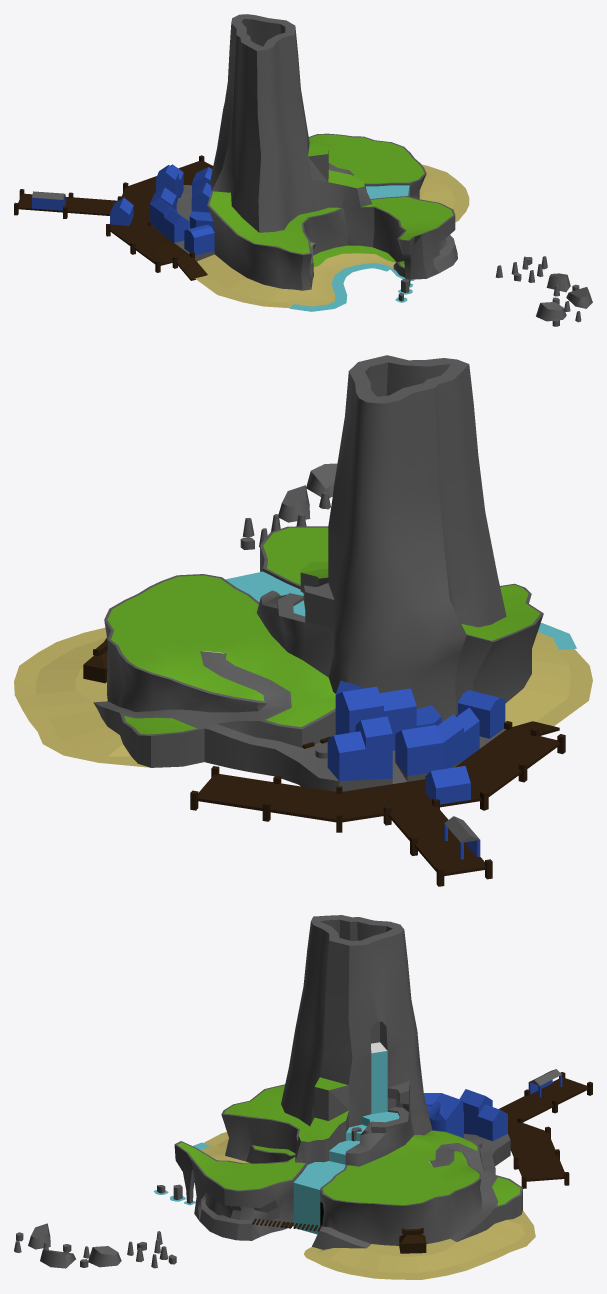
File: SM_BeachScene (6).fbx
The picture shows the model from 3 angles, top to bottom: view 1: azimuth 30°, elevation 25°; view 2: azimuth 150°, elevation 25°; view 3: azimuth 270°, elevation 25°; orthographic projection. The views are drawn at different scales.
Parts seen in each view (by area): view 1: Cliffs, Sand, Box006, Box045, Box041, Box051, Box035, Waves2, Object001, Plane002, Waves1, Box044 (+2 smaller); view 2: Cliffs, Sand, Box006, Box042, Box043, Object001, Box045, Box040, Box041, Box035, Plane002, Box044 (+4 smaller); view 3: Cliffs, Sand, Plane002, Box006, Box043, Box040, Object001, Rocks, Box007, Cylinder023, Cylinder019.
Part boxes in pixels (x1,y1,x2,y2): Cliffs: (151, 14, 457, 290); Sand: (195, 164, 469, 308); Box006: (18, 160, 213, 280); Box045: (189, 182, 214, 231); Box041: (184, 224, 214, 255); Box051: (164, 209, 188, 242); Box035: (110, 197, 133, 225); Waves2: (290, 265, 389, 311); Object001: (156, 165, 178, 203); Plane002: (365, 185, 409, 198); Waves1: (292, 263, 391, 308); Box044: (150, 197, 177, 234); Cliffs: (93, 355, 543, 791); Sand: (14, 561, 592, 767); Box006: (197, 721, 559, 875); Box042: (395, 725, 441, 776); Box043: (335, 680, 383, 734); Object001: (355, 716, 392, 779); Box045: (380, 688, 441, 750); Box040: (327, 731, 365, 780); Box041: (458, 690, 505, 738); Box035: (425, 766, 470, 804); Plane002: (225, 571, 305, 616); Box044: (437, 714, 463, 769); Cliffs: (174, 915, 522, 1249); Sand: (201, 1085, 535, 1279); Plane002: (293, 1051, 399, 1234); Box006: (499, 1077, 588, 1181); Box043: (428, 1101, 463, 1137); Box040: (477, 1104, 507, 1141); Object001: (463, 1091, 492, 1134); Rocks: (157, 1145, 295, 1200); Box007: (399, 1227, 426, 1253); Cylinder023: (88, 1246, 121, 1267); Cylinder019: (40, 1249, 75, 1268).
Size of what is drawn, in the model's own units: 10716 by 6047 by 13353.
